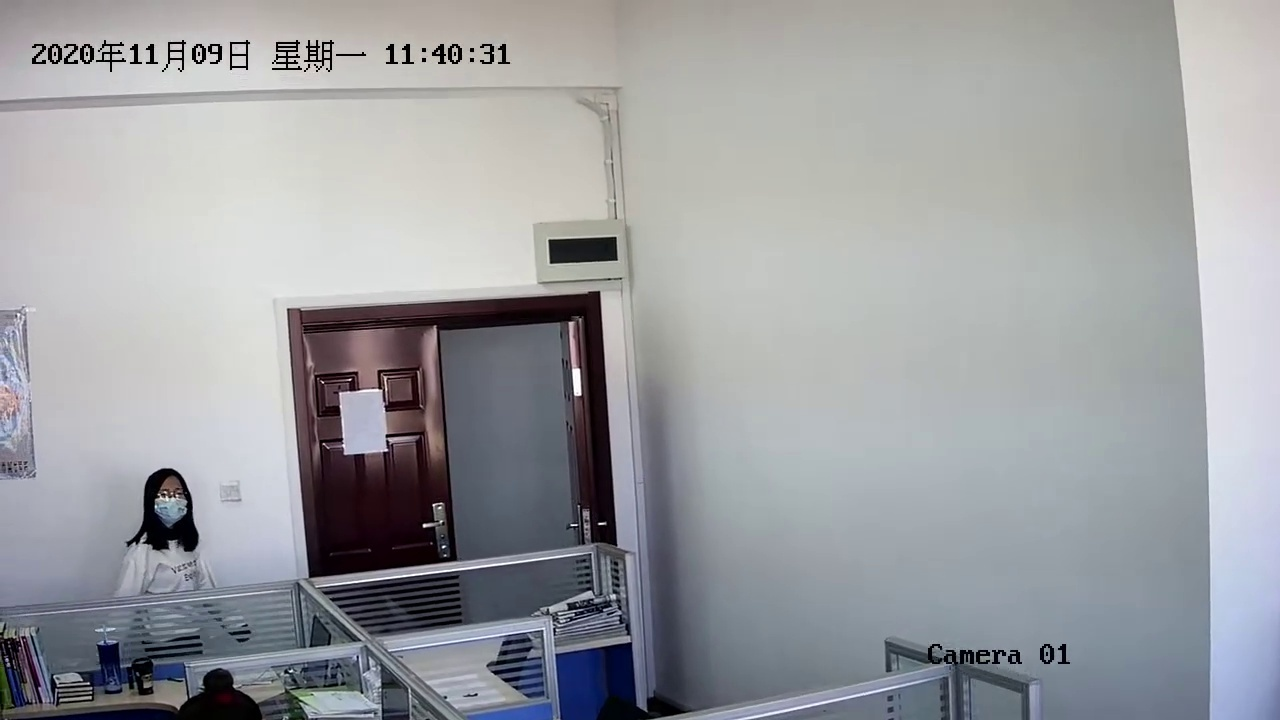mask: (139, 467, 199, 546)
